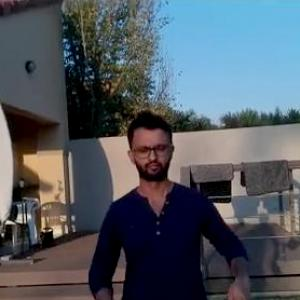follow: (84, 105, 260, 299)
